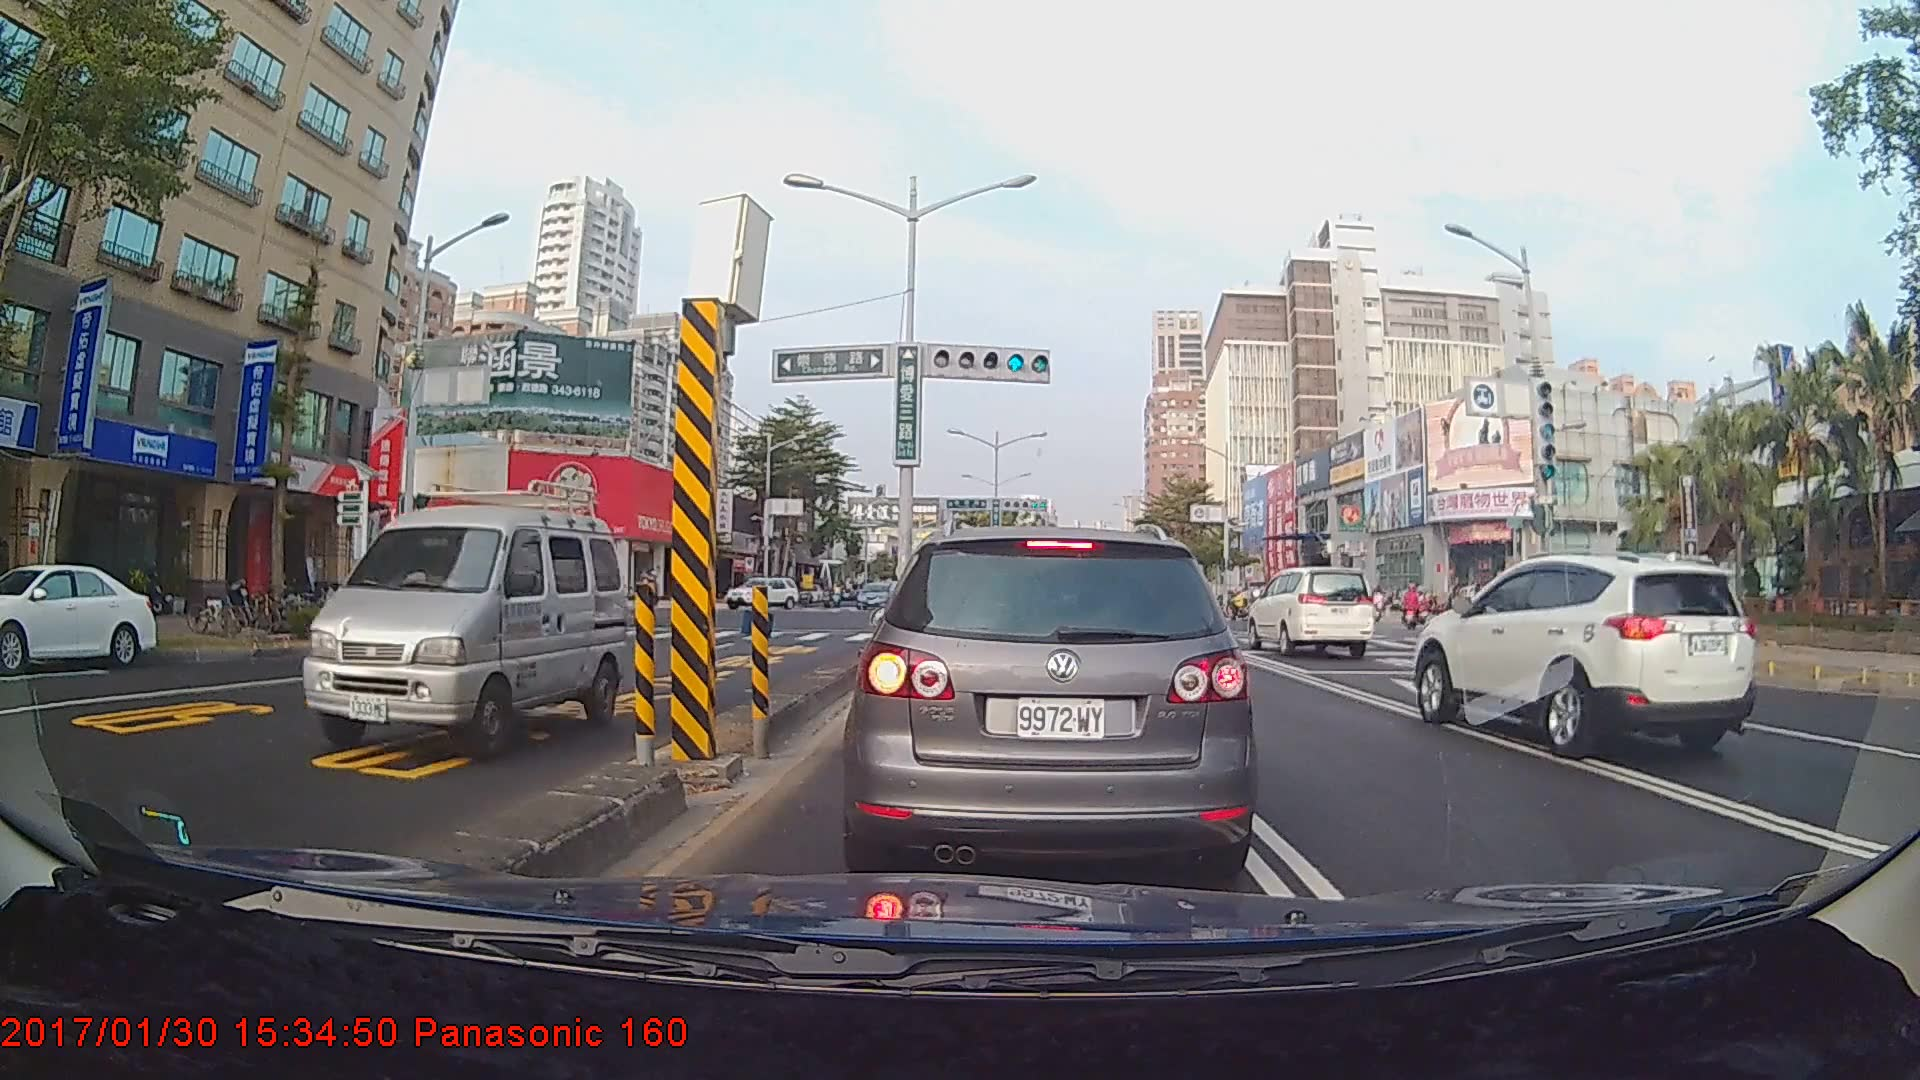rider: (1396, 580, 1421, 638)
vehicle: (851, 521, 1247, 882), (301, 478, 622, 757), (1410, 547, 1757, 754), (0, 561, 157, 671), (1243, 564, 1376, 660), (855, 580, 895, 611)
